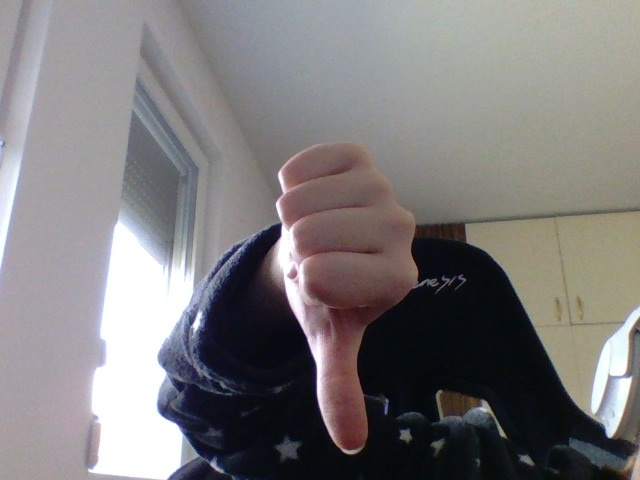ThumbsDown: (276, 139, 419, 459)
